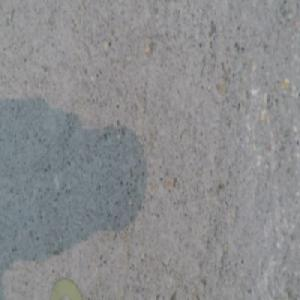Washer: (50, 279, 83, 299)
